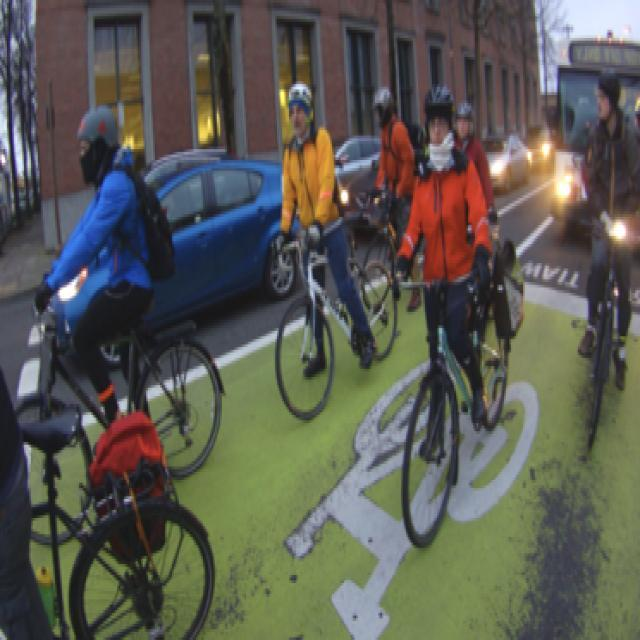Helmet: (420, 76, 460, 165), (282, 68, 317, 144), (370, 82, 396, 138)
